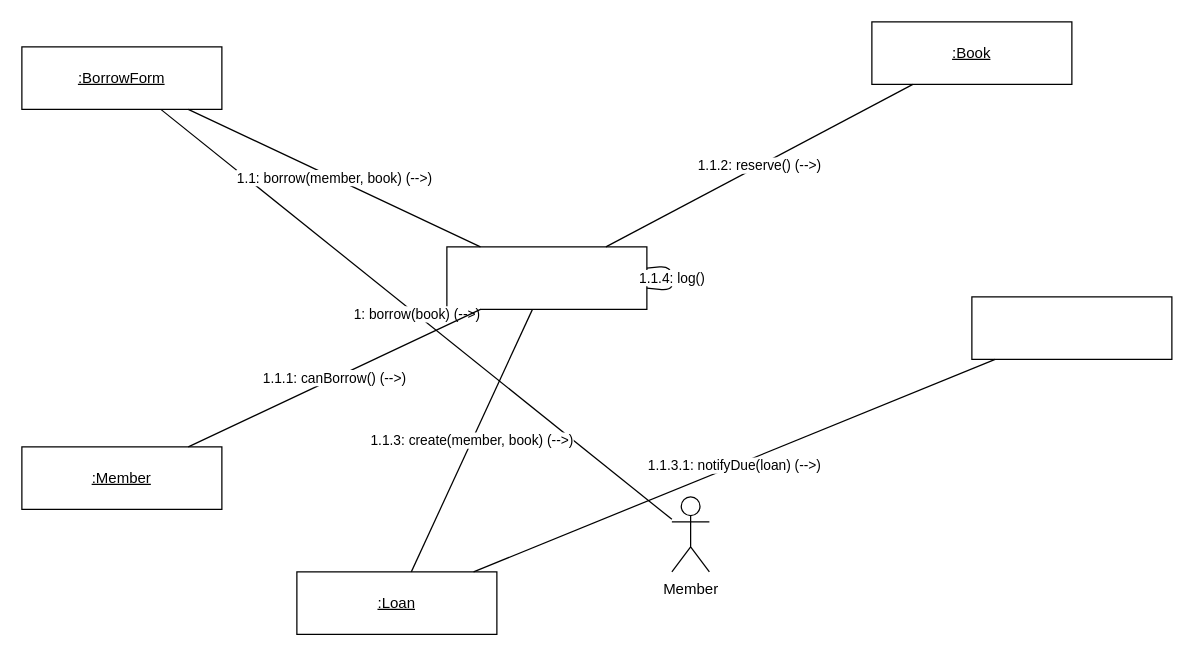
The diagram is 1194 pixels wide and 656 high, and some of its shapes have lost their labels. The box of each missing label's shape, as (x1, y1, x2, y2) in pixels:
:BorrowController: (446, 246, 647, 309)
:Notifier: (971, 296, 1172, 359)
